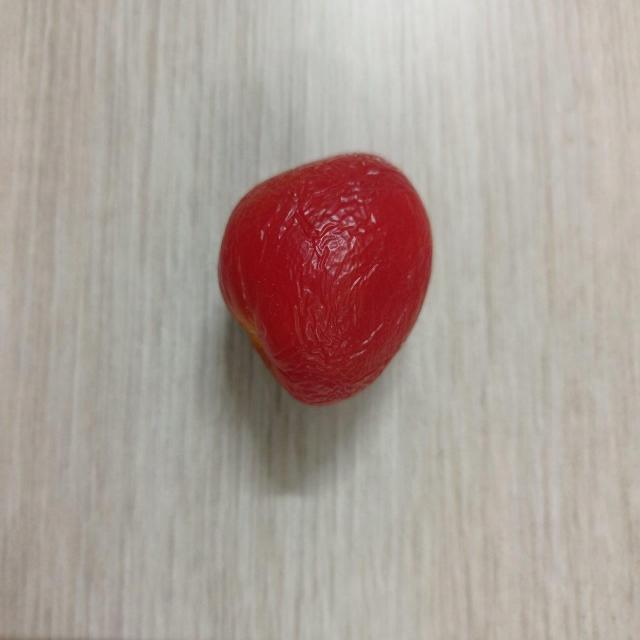overripe: (214, 150, 433, 406)
